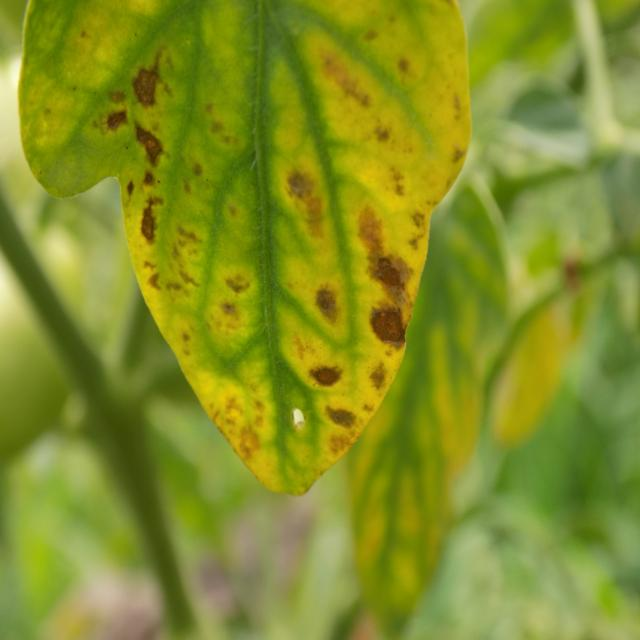tomato_early blight: (18, 0, 465, 504)
